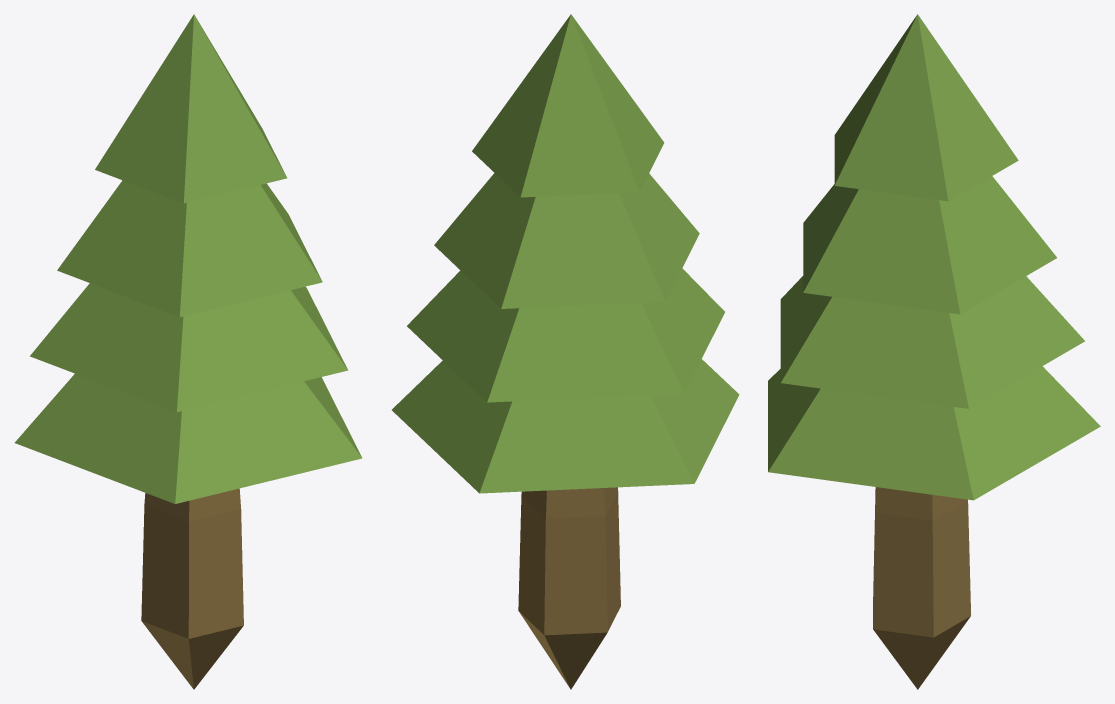
3 views of the same model, side by side, from view 1: azimuth 30°, elevation 25°; view 2: azimuth 150°, elevation 25°; view 3: azimuth 270°, elevation 25° (orthographic).
Visible parts, largest first — view 1: Cylinder; view 2: Cylinder; view 3: Cylinder.
Part boxes in pixels (left/top/right/bottom): Cylinder: left=14, top=14, right=362, bottom=689; Cylinder: left=392, top=14, right=739, bottom=689; Cylinder: left=768, top=14, right=1100, bottom=689.
Size of the model in its own units: 1.21 by 1.15 by 2.58.
